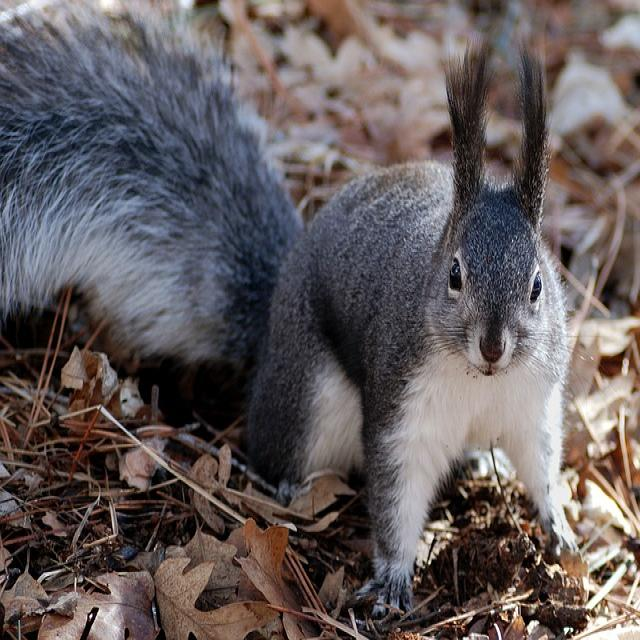Herbivorous: (243, 161, 580, 640)
